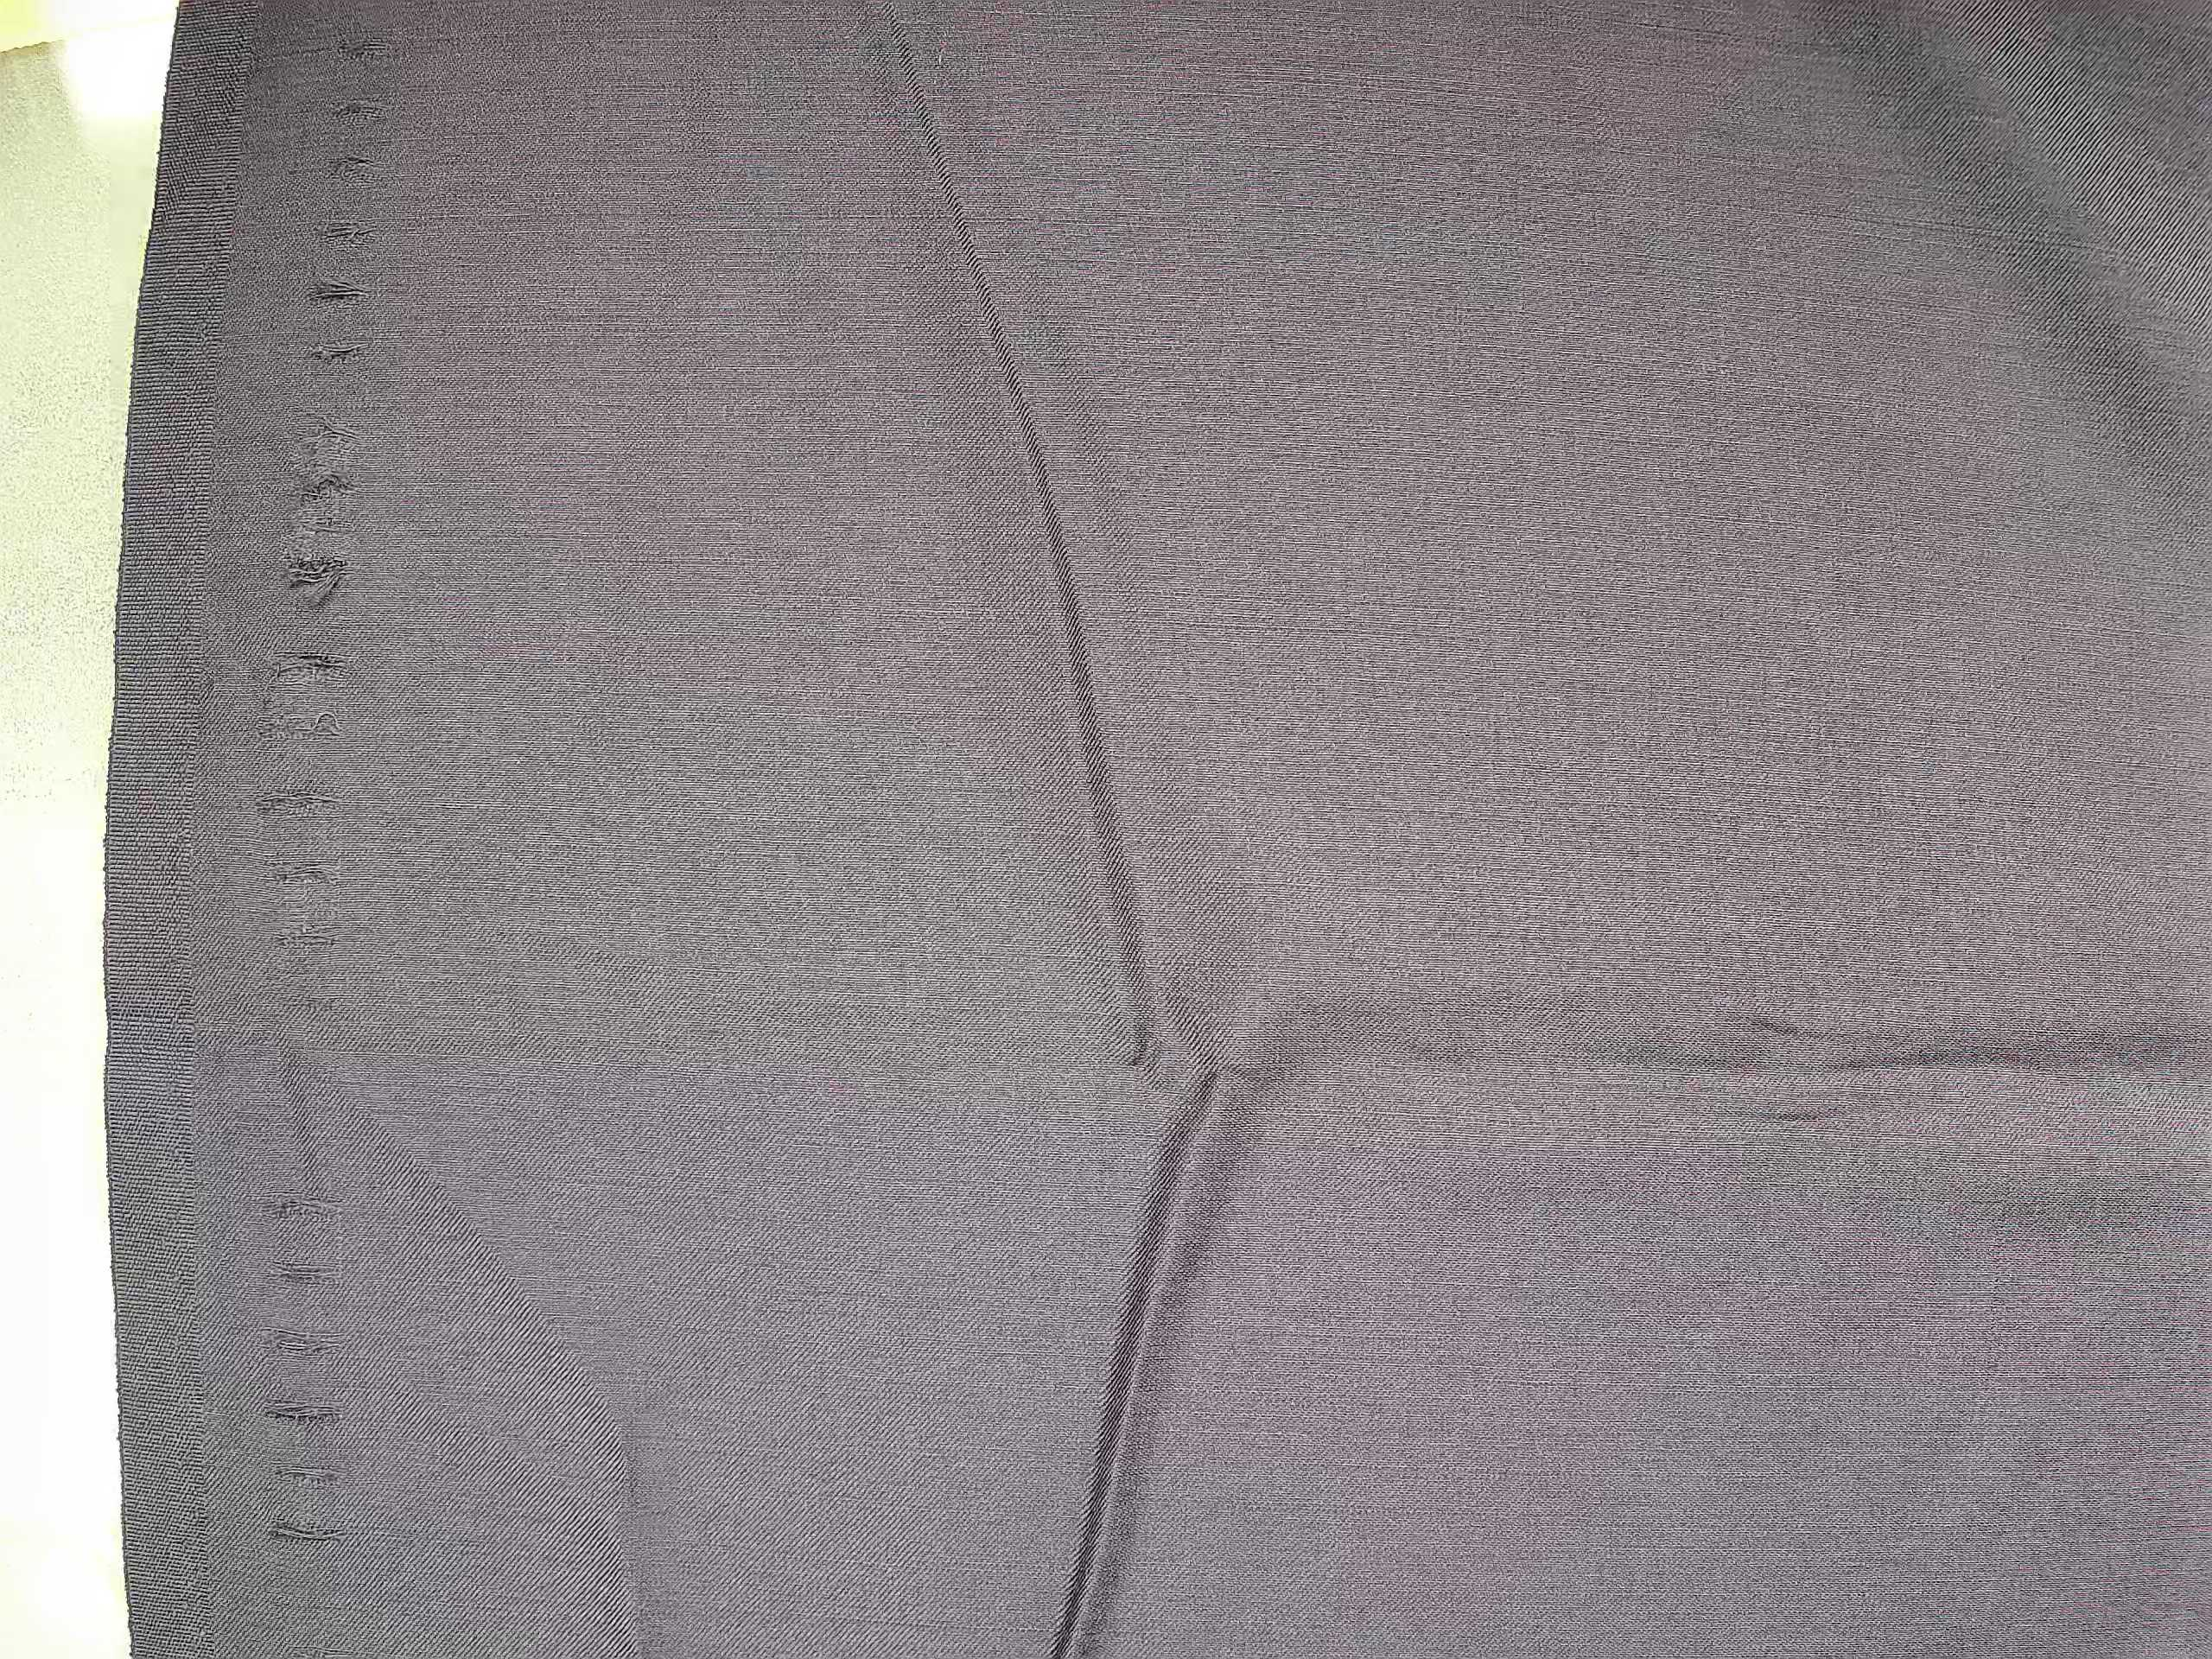puncture-hole: (242, 179, 394, 1582)
